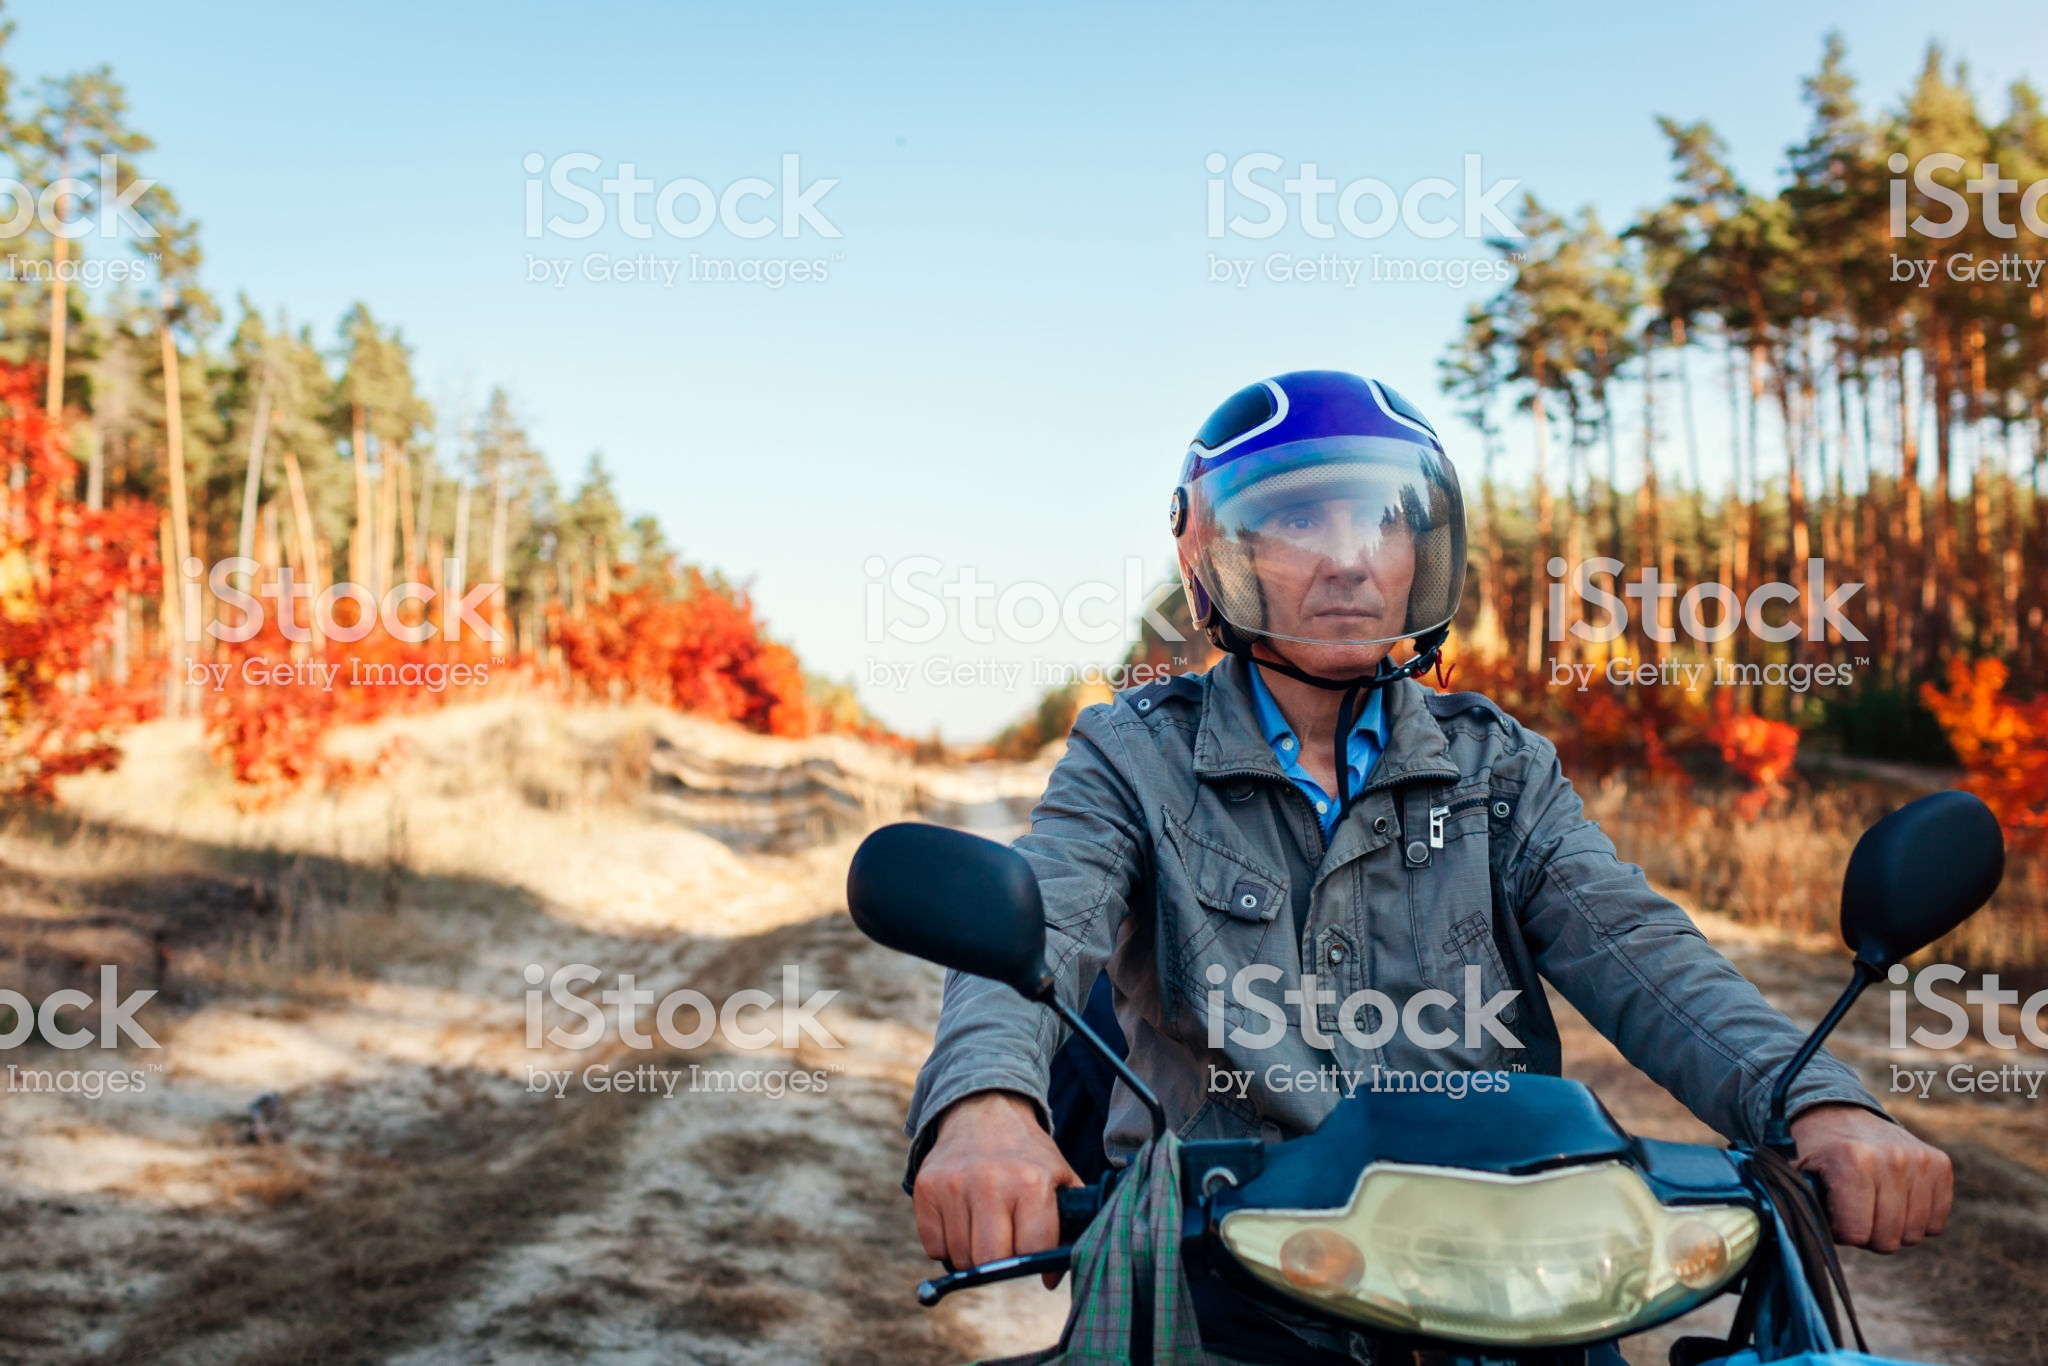helmet: (1166, 351, 1474, 669)
